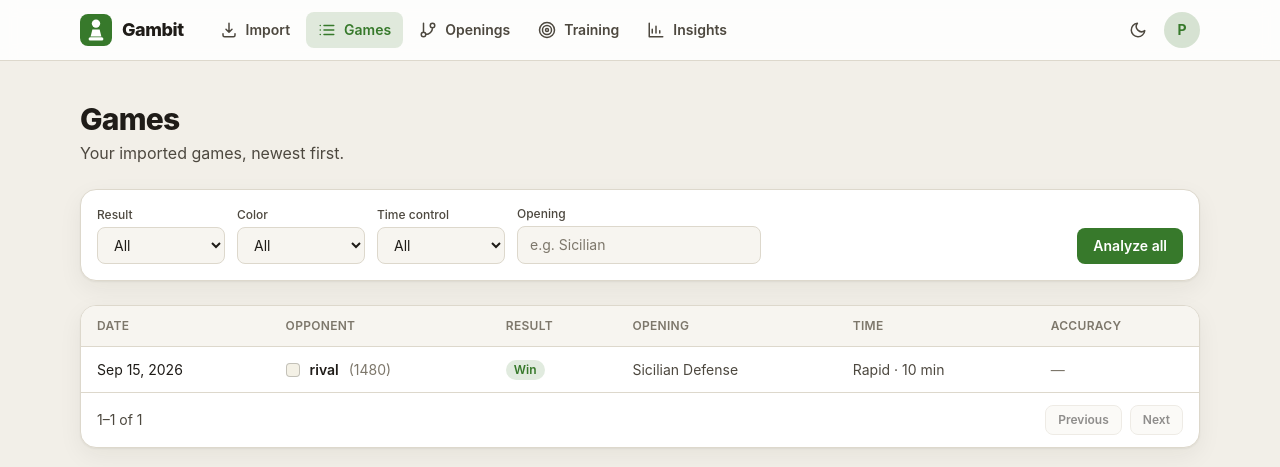
Test: queues all games and refreshes until they are analyzed
Expected: the text "rival" is shown, top-left (310, 360), bottom-right (339, 380)
Click the button "Analyze all".
click(1130, 246)  # box top-left (1077, 228), bottom-right (1183, 264)
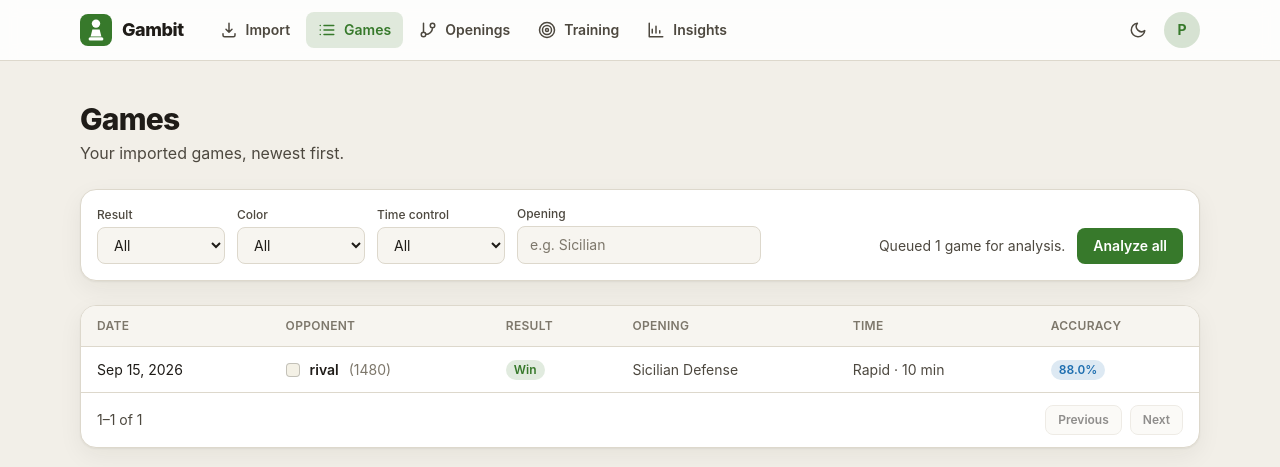
Expected: the message reads "Queued 1 game for analysis.", top-left (879, 237), bottom-right (1065, 254)
Expected: the text "88.0%" is shown, top-left (1051, 360), bottom-right (1105, 380)
